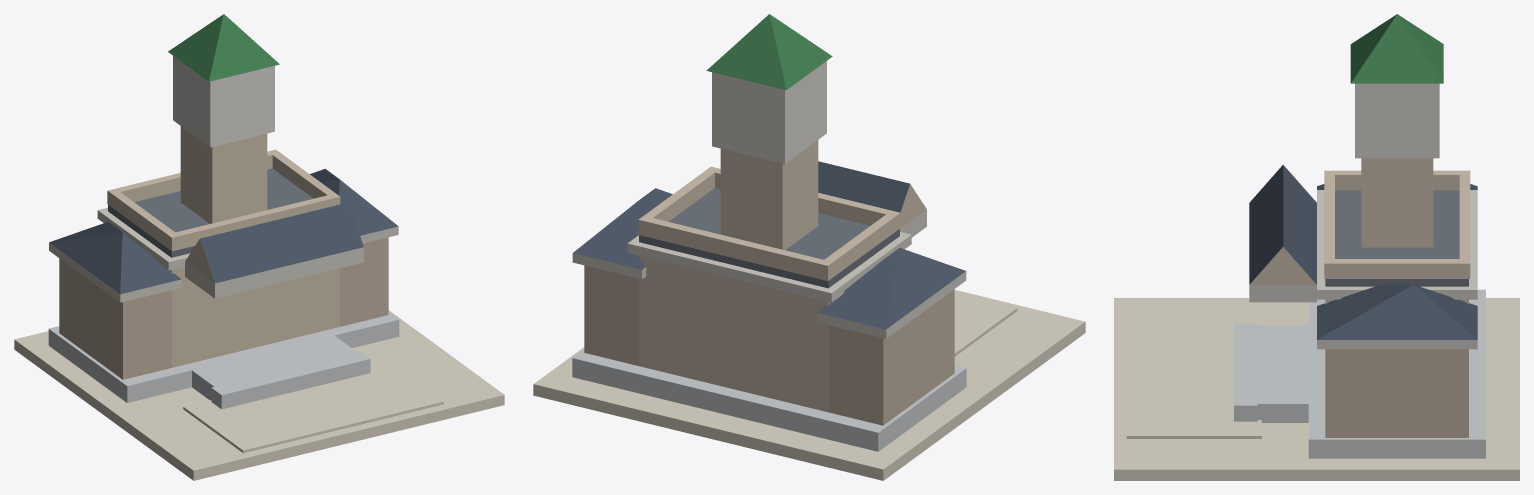
The picture shows the model from 3 angles, left to right: view 1: azimuth 30°, elevation 25°; view 2: azimuth 150°, elevation 25°; view 3: azimuth 270°, elevation 25°; orthographic projection. The views are drawn at different scales.
Parts seen in each view (by area): view 1: b21_v2_lod2; view 2: b21_v2_lod2; view 3: b21_v2_lod2.
Part boxes in pixels (bbox=[...]): b21_v2_lod2: bbox=[14, 14, 504, 480]; b21_v2_lod2: bbox=[533, 14, 1085, 480]; b21_v2_lod2: bbox=[1114, 14, 1519, 480].
Size of the model in its own units: 0.96 by 0.995 by 0.96.
